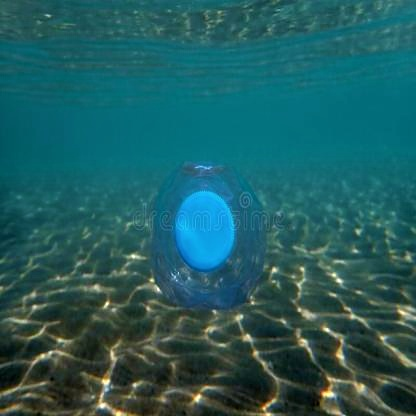pbottle: (137, 148, 276, 310)
